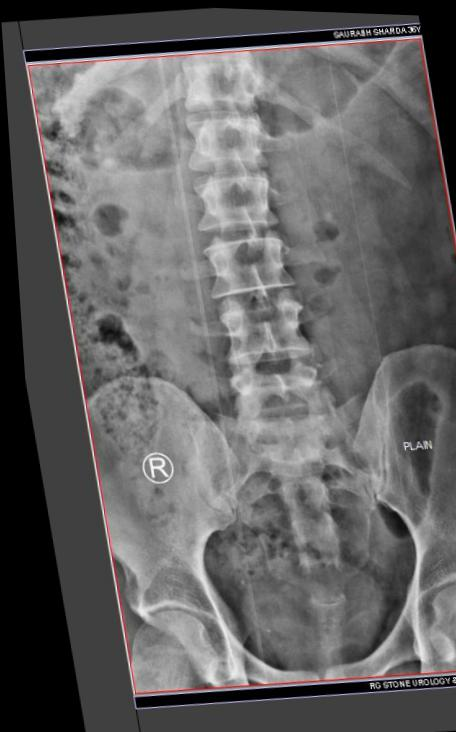bladder: (219, 534, 393, 677)
vertebrae: (175, 100, 274, 177)
